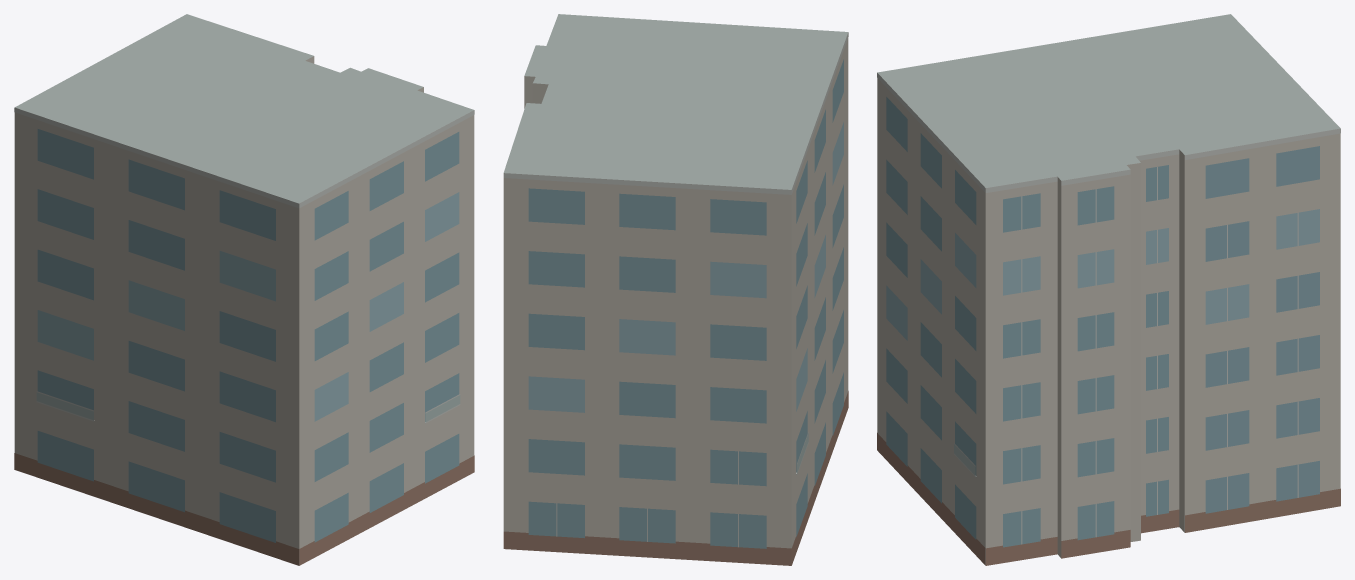
File: survey-upis-32740147.glb
3 views of the same model, side by side, from view 1: azimuth 30°, elevation 25°; view 2: azimuth 150°, elevation 25°; view 3: azimuth 270°, elevation 25° (orthographic). The views are drawn at different scales.
Visible parts, largest first — view 1: survey-upis-32740147.tmp; view 2: survey-upis-32740147.tmp; view 3: survey-upis-32740147.tmp.
Boxes of the visible parts, x1,y1,x2,y2 form: survey-upis-32740147.tmp: [14, 14, 474, 565]; survey-upis-32740147.tmp: [503, 14, 848, 565]; survey-upis-32740147.tmp: [877, 14, 1340, 565].
Bounding box in the file's own units: 18.28 × 18.48 × 20.57.
